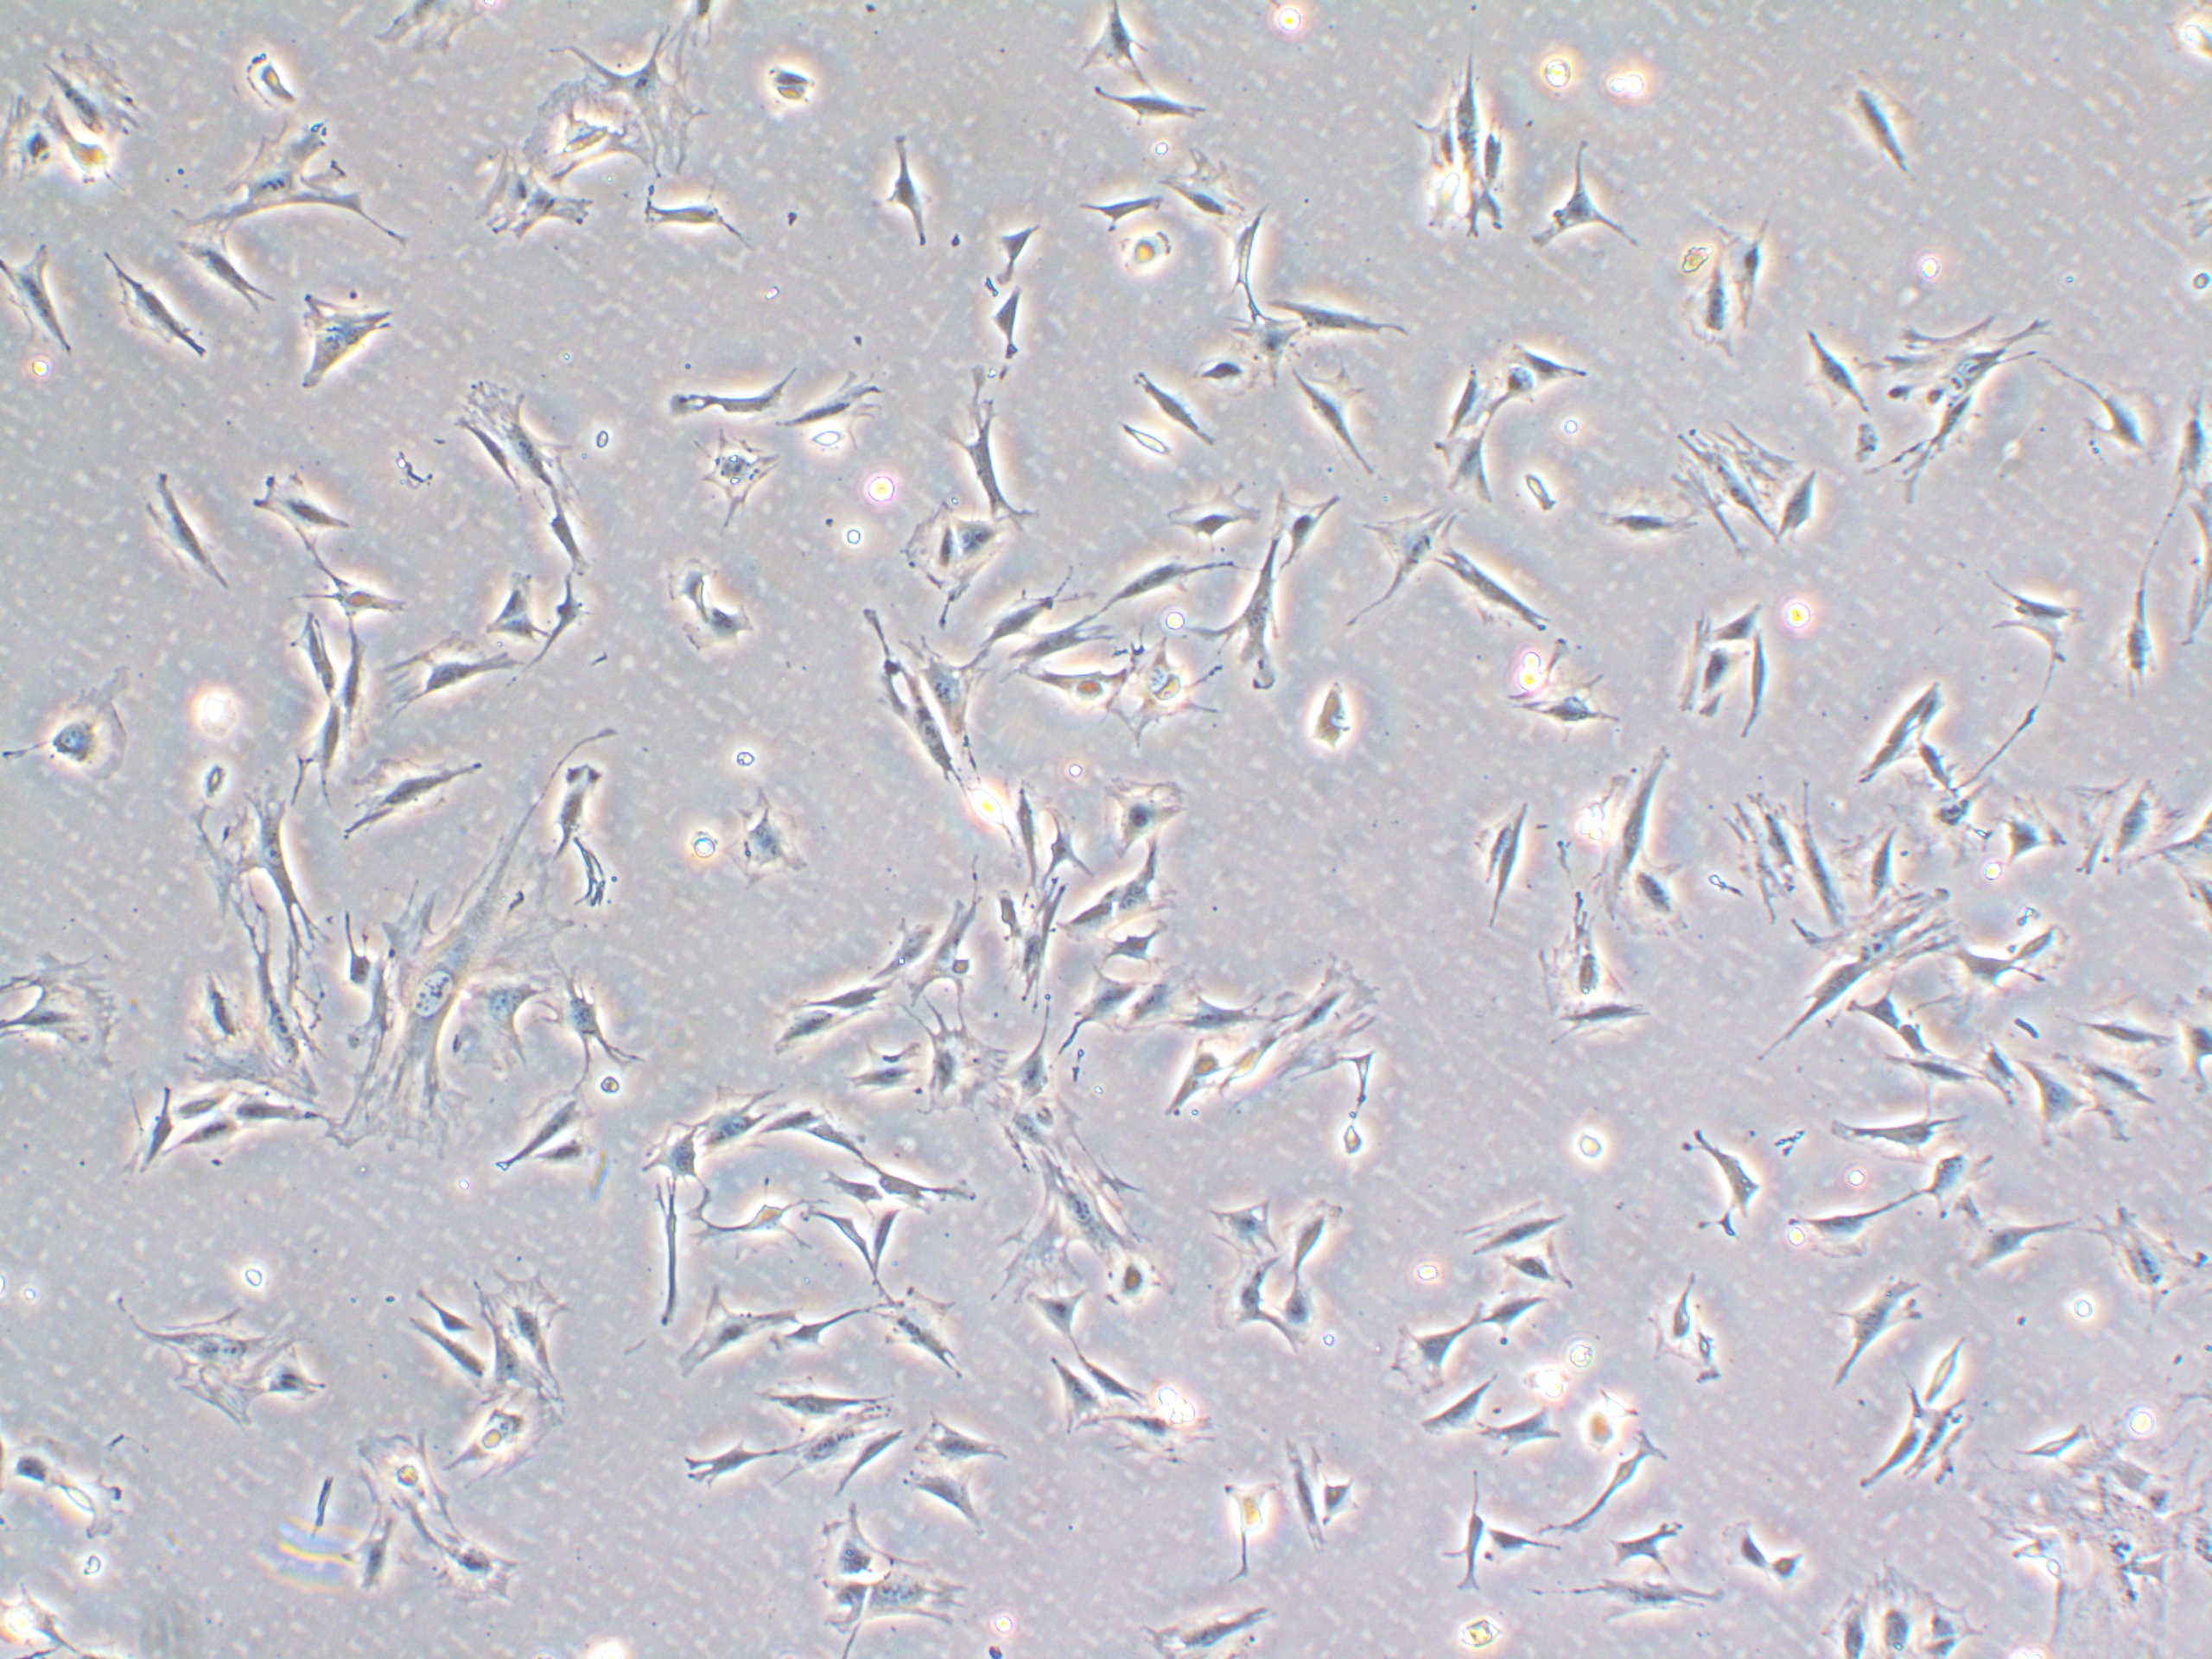small: (1106, 220, 1184, 301), (648, 538, 723, 615), (174, 748, 249, 817), (230, 47, 305, 113), (765, 54, 824, 134), (1510, 467, 1578, 533), (1109, 415, 1179, 479)
spread: (343, 823, 571, 1143), (1864, 293, 2080, 512), (160, 927, 341, 1115), (472, 75, 725, 188), (0, 17, 152, 195), (122, 1295, 315, 1431), (204, 131, 420, 249), (435, 371, 601, 519), (1217, 946, 1376, 1098), (1512, 896, 1665, 1049), (1665, 411, 1808, 568), (1763, 903, 1961, 1006), (810, 1502, 961, 1636), (474, 1253, 583, 1438), (1005, 1148, 1143, 1288), (1571, 742, 1695, 889), (0, 943, 125, 1082), (894, 997, 1019, 1122), (357, 1427, 465, 1558), (2064, 765, 2168, 892), (418, 1521, 526, 1628)
